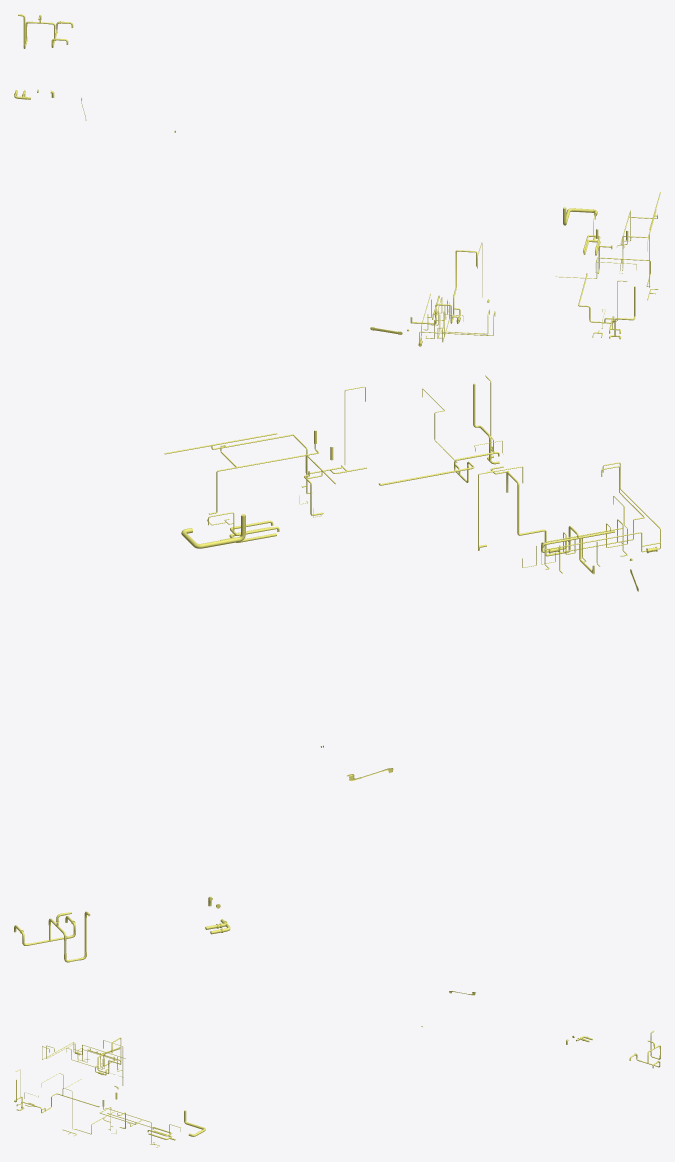
The model's file is NoLod_17.glb.
3 renders of one model, top to bottom at view 1: azimuth 30°, elevation 25°; view 2: azimuth 150°, elevation 25°; view 3: azimuth 270°, elevation 25°, orthographic. The views are drawn at different scales.
Visible parts, largest first — view 1: rtc; view 2: rtc; view 3: rtc.
Boxes of the visible parts, x1=… form: rtc: x1=14, y1=14, x2=660, y2=346; rtc: x1=14, y1=375, x2=660, y2=962; rtc: x1=14, y1=991, x2=660, y2=1147.
Bounding box in the file's own units: 73.17 × 11.7 × 155.
